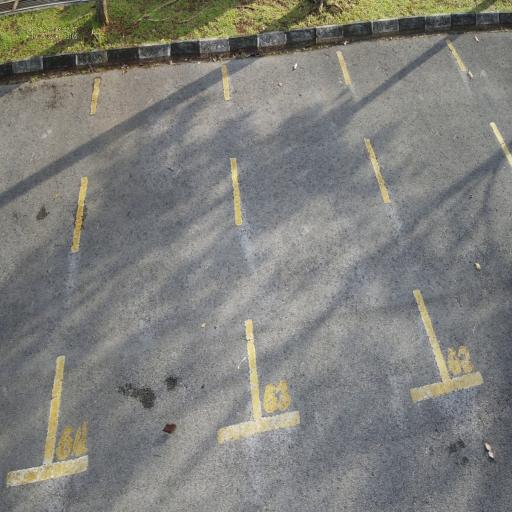Empty: (37, 35, 265, 489), (218, 44, 460, 440)
